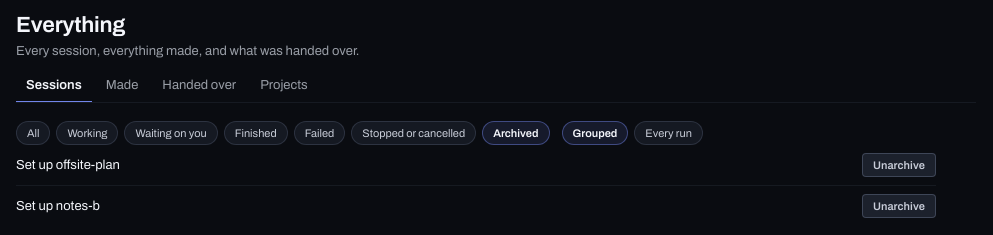
Everything › Sessions › Archived › Unarchive re-reads the runs list, like Archive does (studio#511)
Click the button with test id "everything-unarchive" in the row of "Set up offsite-plan".
click(899, 165)  # box top-left (862, 153), bottom-right (936, 177)
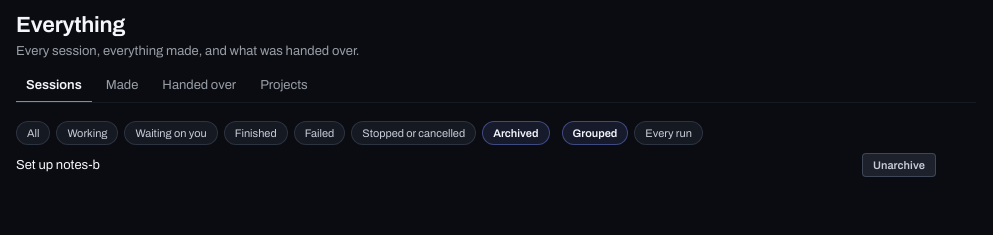
Result: the number of list items with test id "everything-archived-run" is 1 at top-left (16, 145), bottom-right (936, 185)
